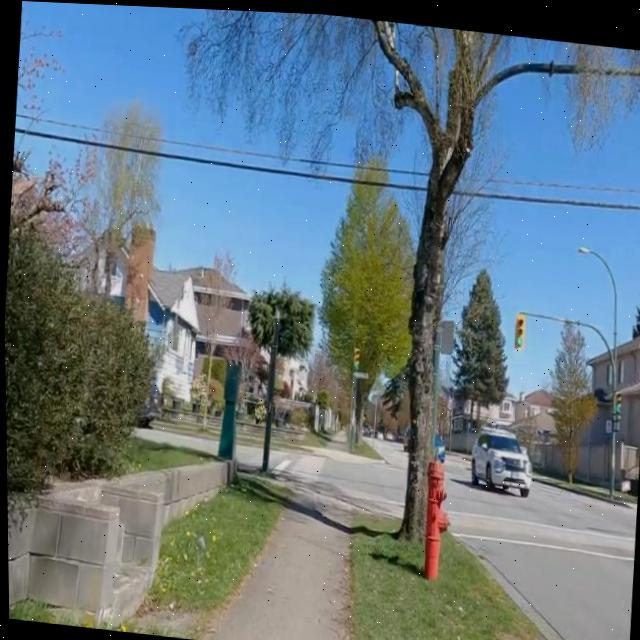Automobile: (468, 423, 529, 490), (433, 428, 442, 457), (402, 426, 406, 448), (373, 427, 381, 436), (385, 428, 391, 436)
Obstacle: (372, 16, 553, 536), (6, 459, 225, 620), (347, 511, 551, 640), (142, 477, 279, 610), (421, 449, 447, 575), (260, 303, 278, 468), (216, 361, 237, 457), (303, 431, 343, 447), (350, 437, 379, 455), (349, 438, 378, 455)
Road: (442, 451, 635, 640), (265, 434, 405, 503), (135, 428, 214, 453), (268, 446, 322, 471), (234, 441, 259, 466)
Sidewalk: (192, 467, 400, 640), (314, 424, 377, 458)
